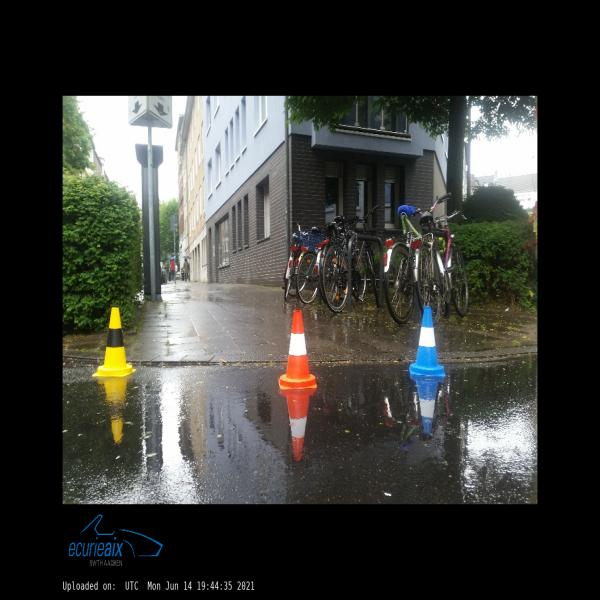blue_cone: (409, 306, 446, 377)
orange_cone: (279, 311, 317, 389)
yellow_cone: (92, 307, 136, 376)
